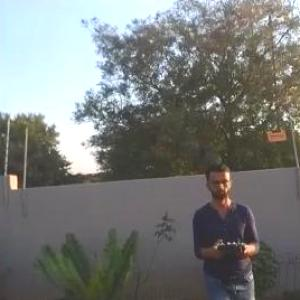follow: (185, 168, 265, 299)
